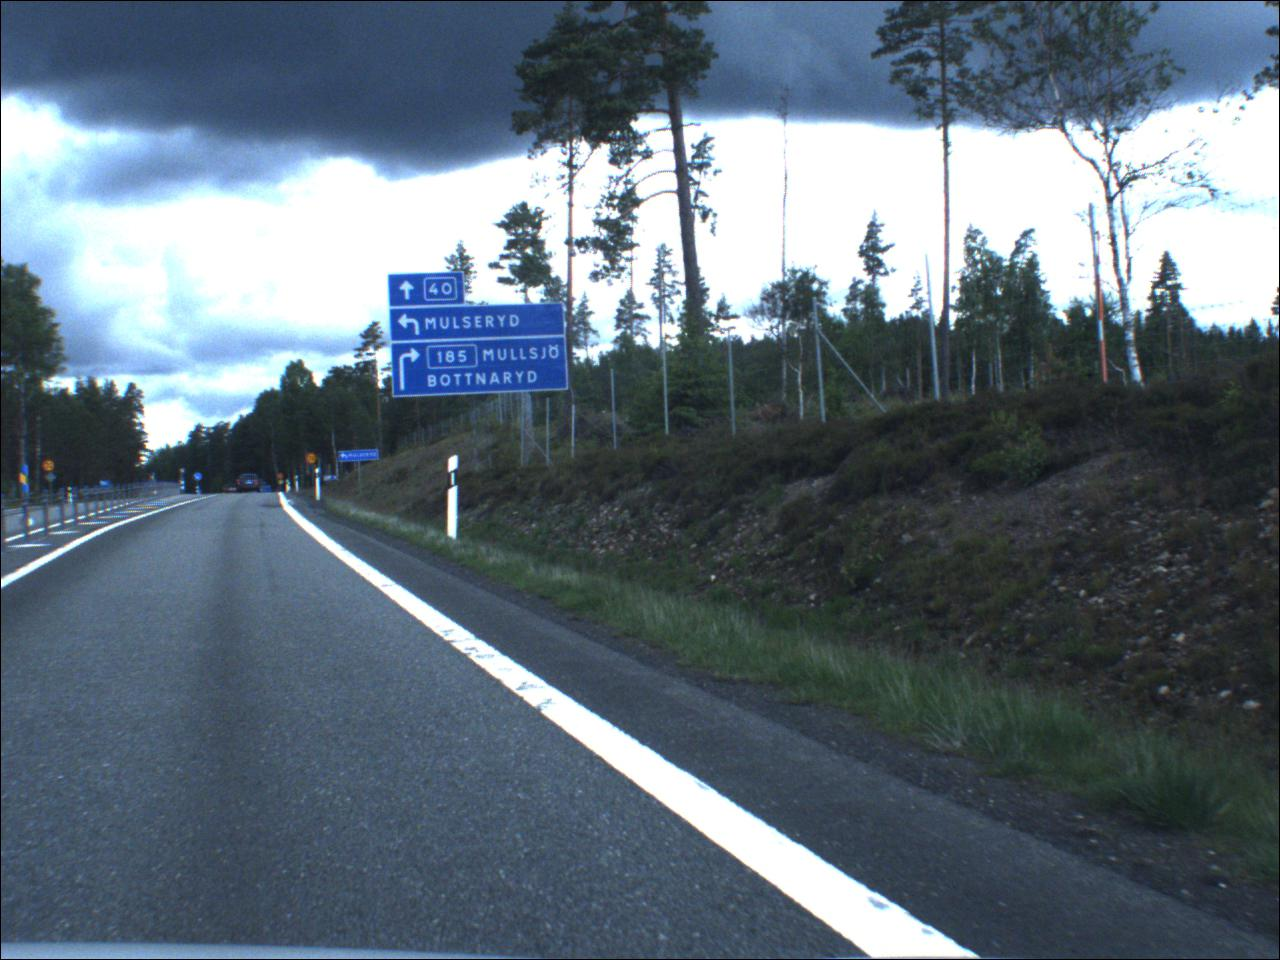70_SIGN: (44, 461, 58, 475), (307, 455, 319, 467), (279, 474, 287, 481)
PASS_RIGHT_SIDE: (195, 474, 205, 485)
PRIORITY_ROAD: (279, 482, 287, 487)
